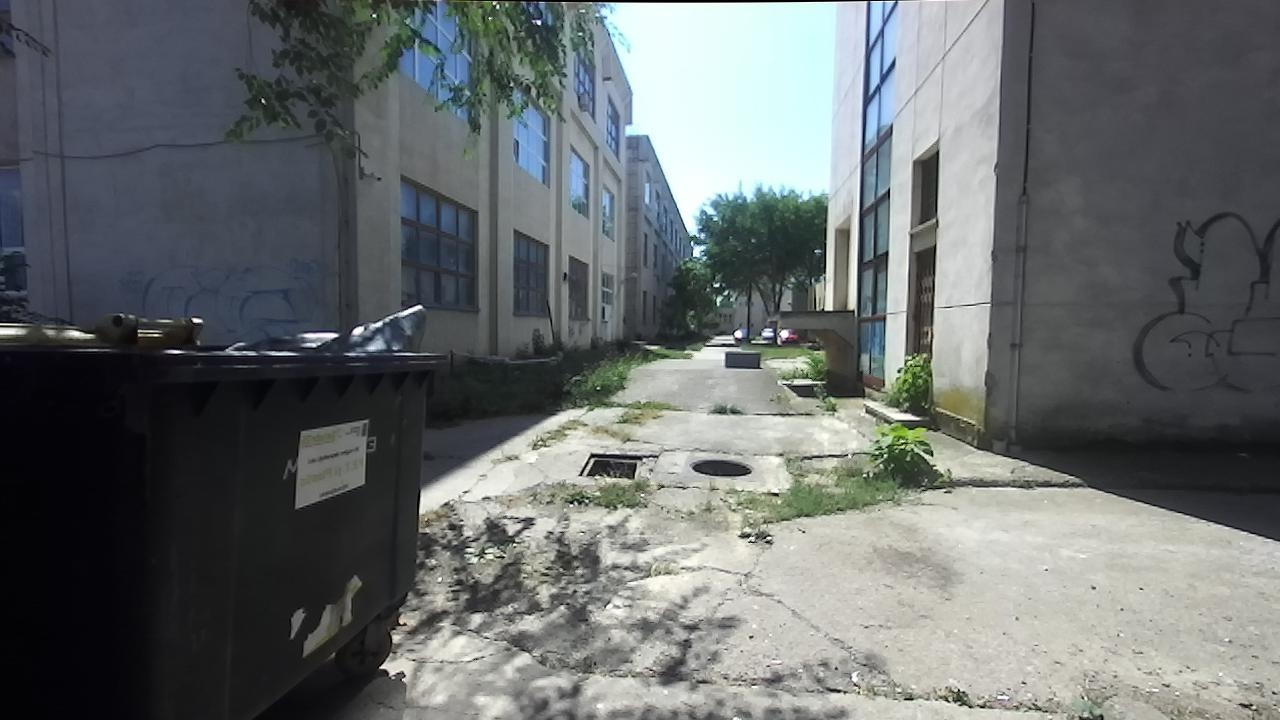drain: (574, 448, 646, 479), (682, 456, 757, 479)
